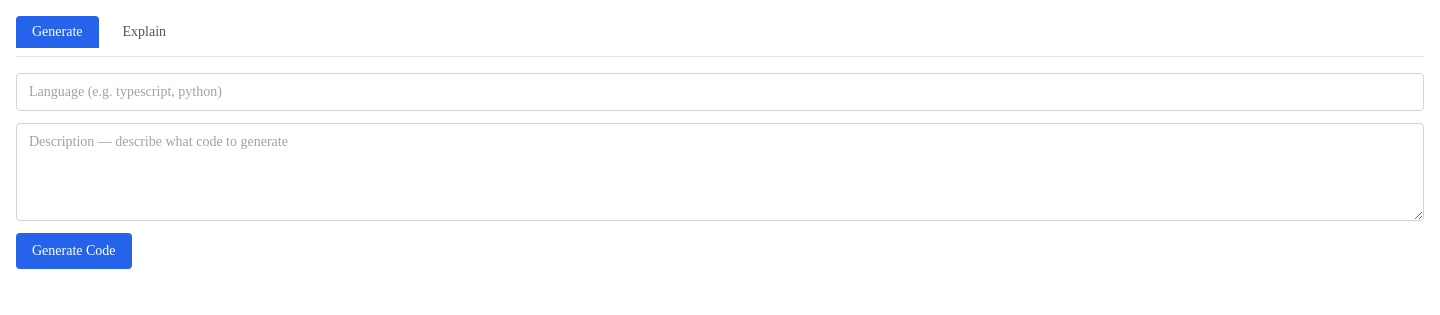
Test case: CodeAssistant generate flow › shows error message when API returns 500
In the field with placeholder "Language (e.g. typescript, python)": (720, 92) [16,73,1424,111], type "ts"
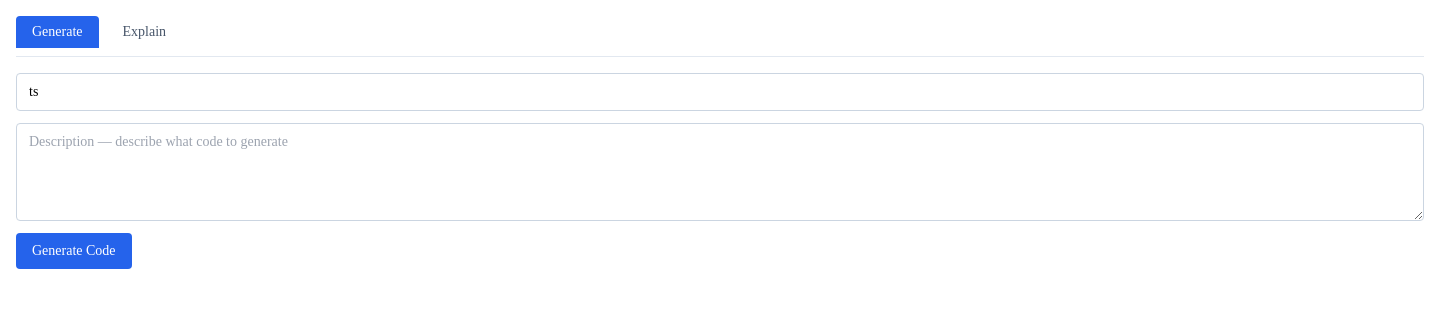
In the text box with placeholder "Description — describe what code to generate": (720, 172) [16,123,1424,221], type "anything"
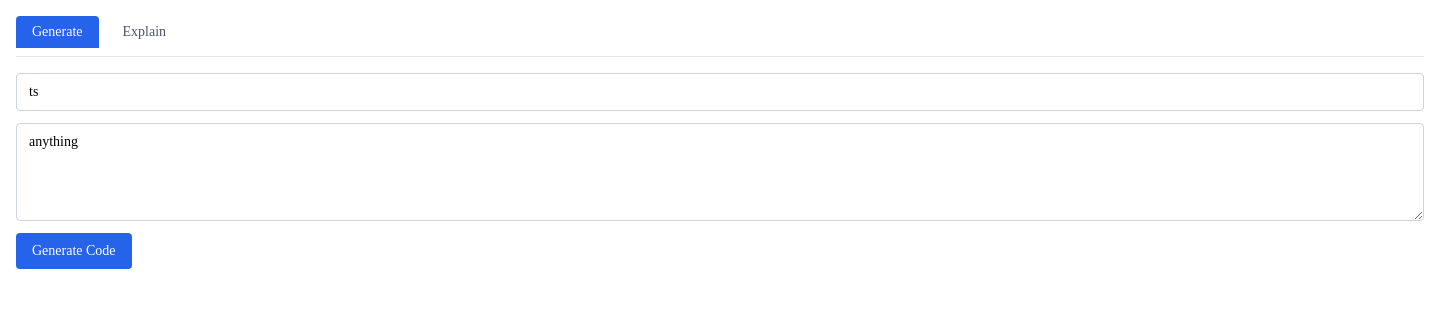
Click the button "Generate Code": (74, 251) [16,233,132,269]
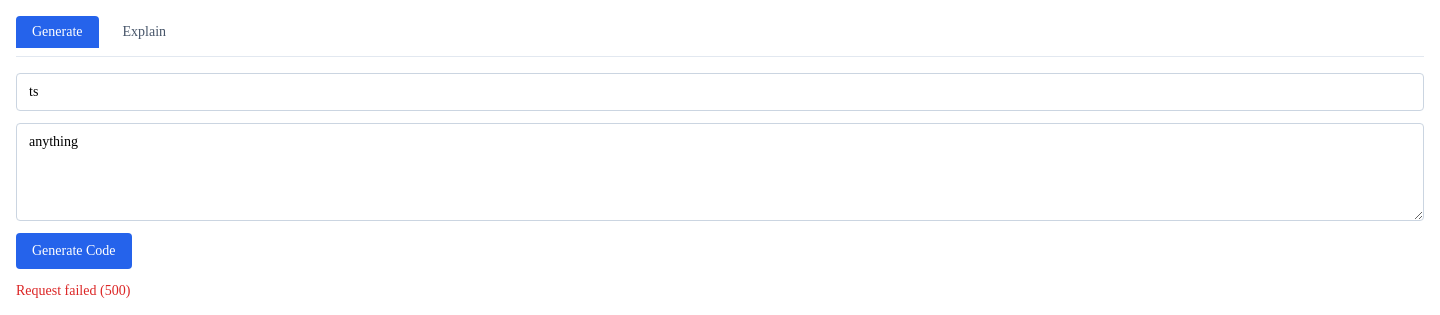
Now the text "Request failed (500)" is shown, box [16,283,130,298]
